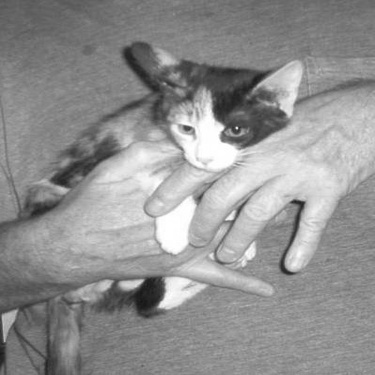cat: (2, 41, 327, 318)
